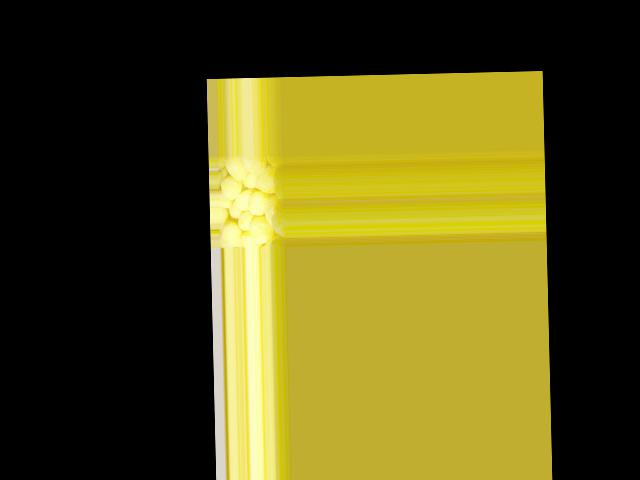lemon: (219, 169, 242, 202)
